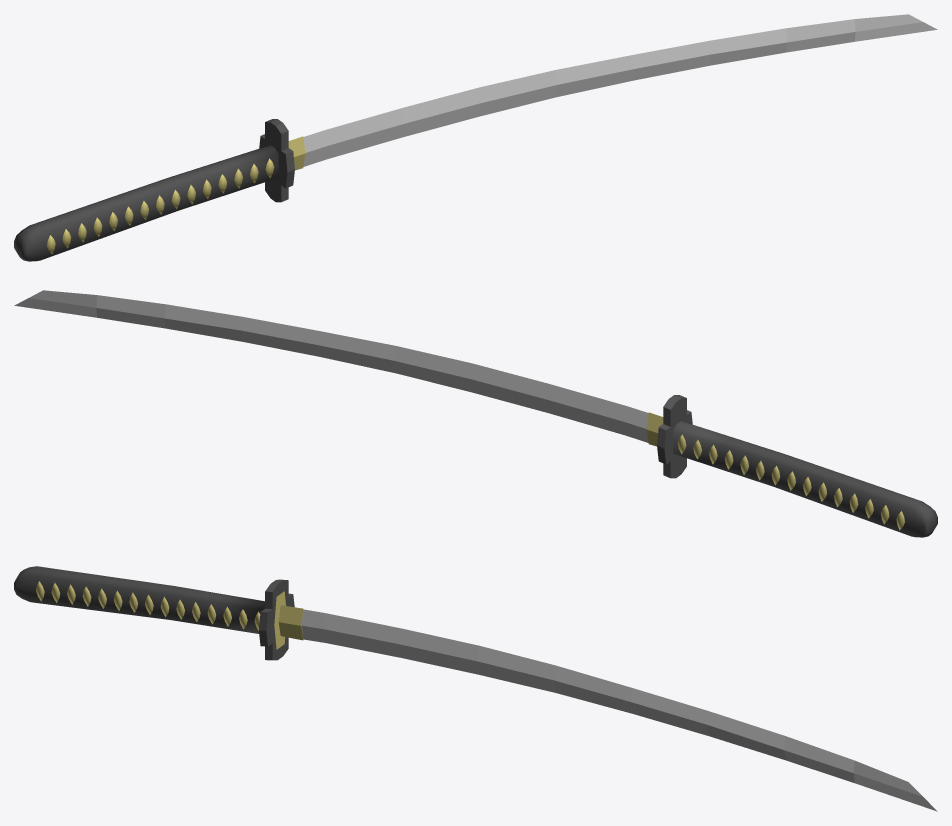
File: Hat_katana.fbx
The picture shows the model from 3 angles, top to bottom: view 1: azimuth 30°, elevation 25°; view 2: azimuth 150°, elevation 25°; view 3: azimuth 330°, elevation 25°; orthographic projection.
Visible parts, largest first — view 1: Katana; view 2: Katana; view 3: Katana.
Part boxes in pixels (x1,y1,x2,y2): Katana: [14, 14, 937, 261]; Katana: [14, 290, 937, 537]; Katana: [14, 566, 937, 811].
Bounding box in the file's own units: 587 × 48.19 × 31.79.
